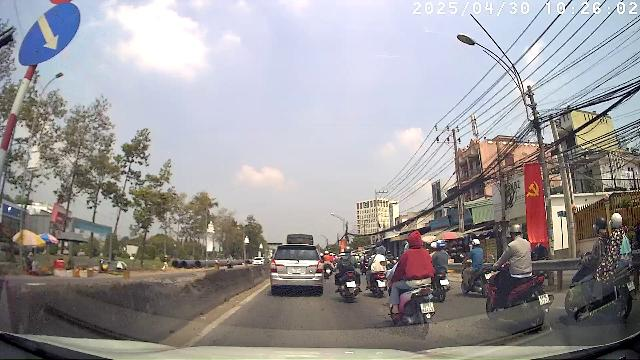302a-huong-phai-di-vong-chuong-ngai-vat-1: (18, 2, 81, 66)
